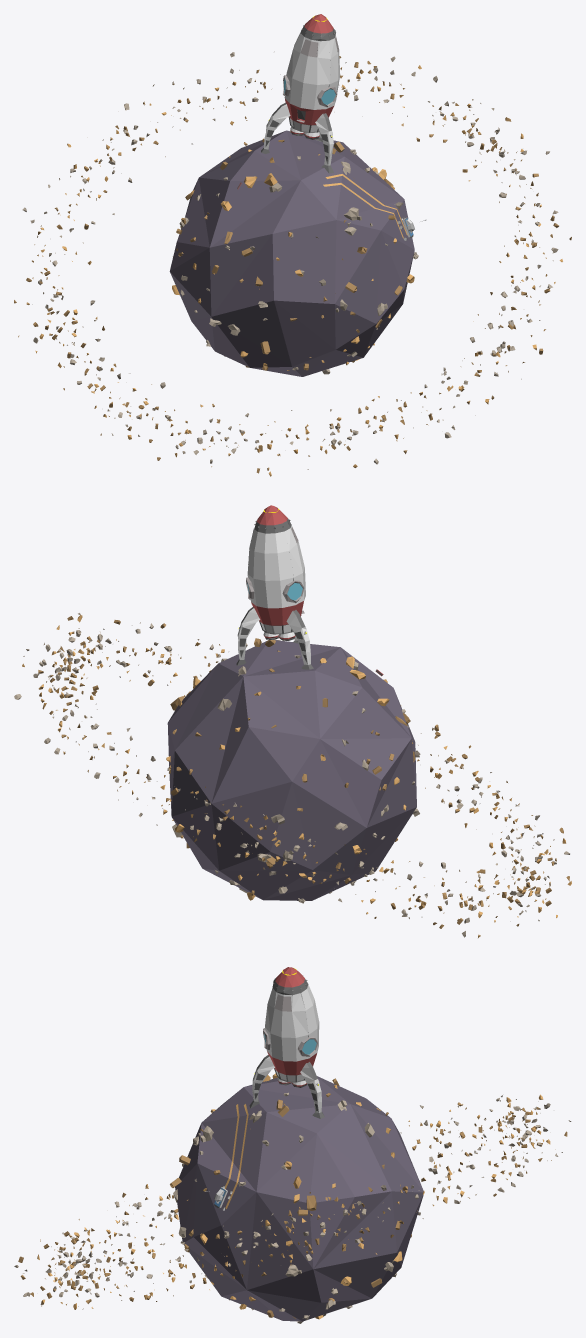
3 views of the same model, one above another, from view 1: azimuth 30°, elevation 25°; view 2: azimuth 150°, elevation 25°; view 3: azimuth 270°, elevation 25° (orthographic). The views are drawn at different scales.
Parts seen in each view (by area): view 1: planet.001 (×2); view 2: planet.001 (×2); view 3: planet.001 (×2).
Boxes of the visible parts, box(x1,y1,x2,y2) form: planet.001 (×2): box(14, 14, 571, 476); planet.001 (×2): box(14, 505, 571, 937); planet.001 (×2): box(14, 967, 571, 1323).
Size of the model in its own units: 30.53 by 22.89 by 31.61.
1 material, 1 textured.
